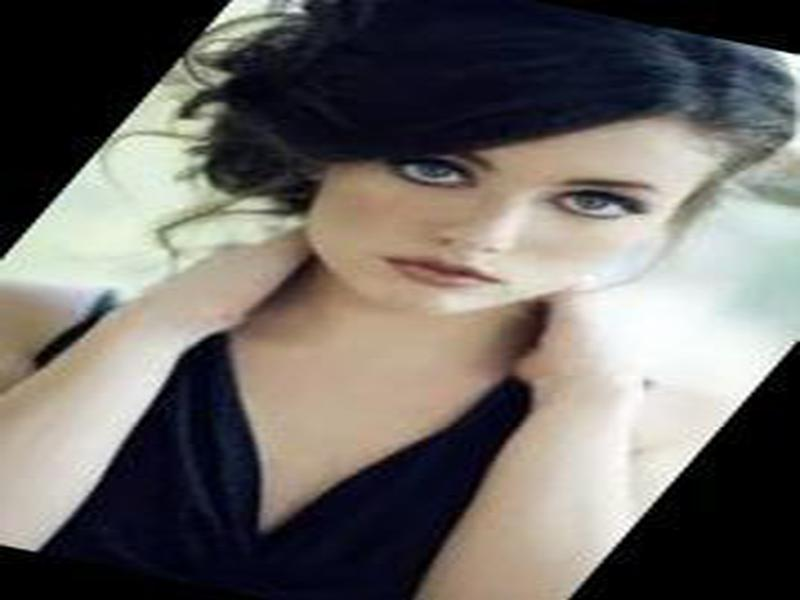without_mask: (314, 82, 729, 316)
